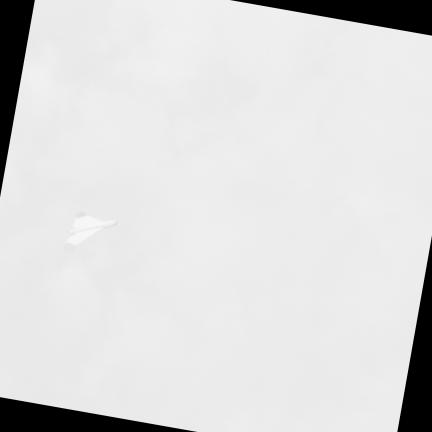Shahed: (62, 211, 117, 252)
